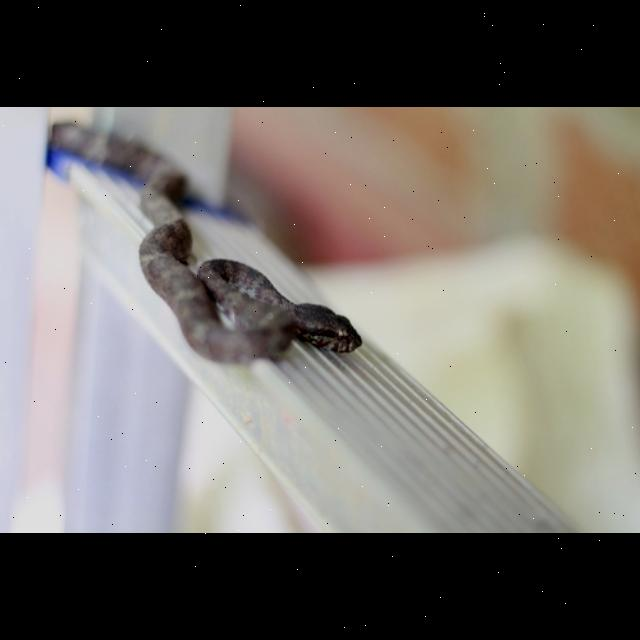snake: (42, 110, 366, 368)
